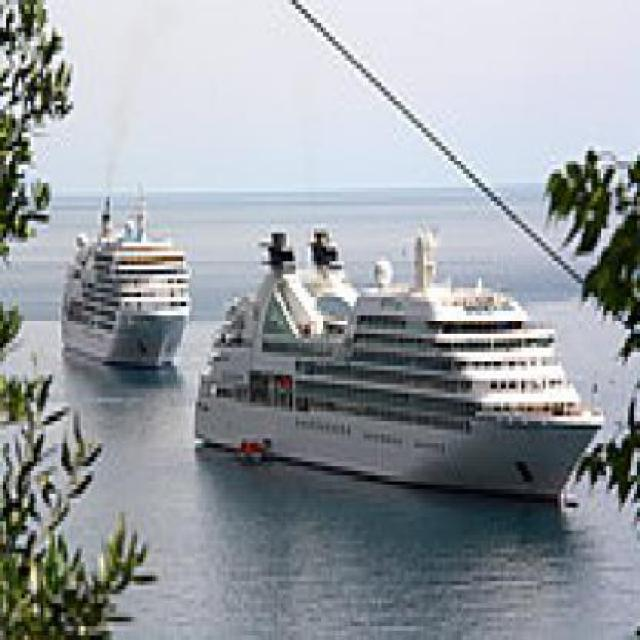cruise: (193, 211, 617, 526), (59, 171, 199, 385)
